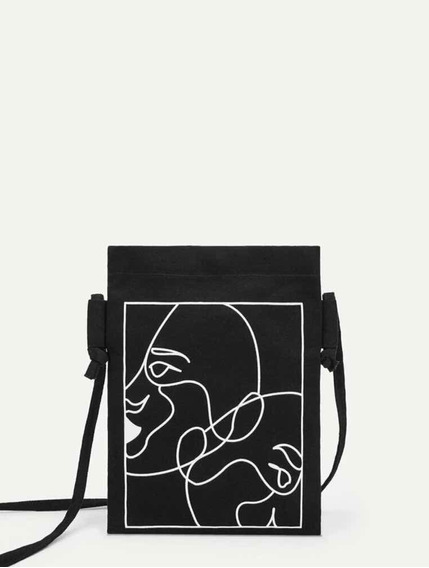cartera: (86, 240, 348, 539)
